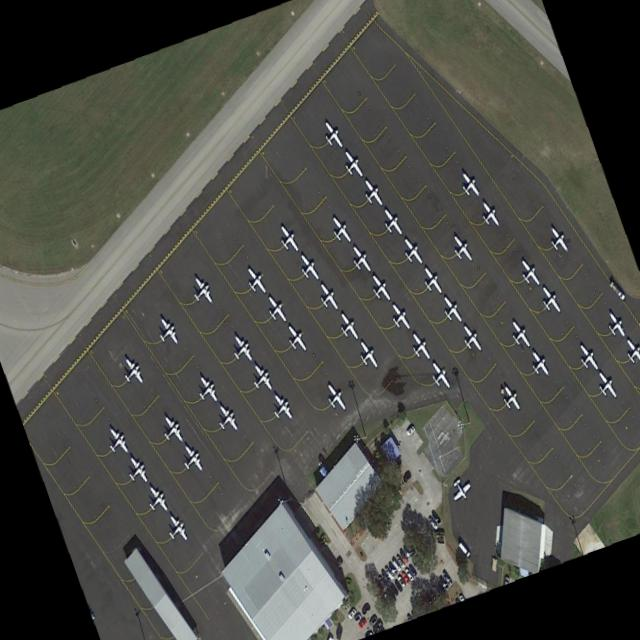large-vehicle: (607, 279, 623, 301)
plane: (161, 510, 191, 550), (177, 440, 206, 480), (246, 359, 275, 399), (504, 315, 533, 354), (157, 411, 186, 450), (266, 389, 295, 428), (211, 401, 240, 439), (102, 423, 131, 461), (152, 313, 181, 351), (320, 379, 349, 417), (122, 451, 150, 490), (353, 336, 381, 374), (357, 174, 385, 212), (447, 230, 475, 268), (142, 481, 170, 519), (117, 353, 145, 391), (187, 272, 215, 310), (227, 331, 255, 369), (262, 290, 290, 328), (536, 281, 564, 319), (475, 196, 503, 234), (397, 233, 425, 270), (417, 262, 445, 299), (294, 248, 322, 285), (192, 372, 220, 409), (281, 320, 309, 357), (425, 357, 452, 395), (274, 219, 301, 257), (573, 338, 600, 376), (592, 366, 619, 404), (515, 254, 542, 292), (365, 270, 393, 306), (333, 309, 361, 345), (326, 212, 353, 249), (346, 241, 373, 278), (405, 328, 432, 365), (318, 117, 345, 154), (338, 146, 365, 183), (313, 279, 340, 316), (241, 262, 268, 299), (385, 299, 412, 335), (378, 205, 405, 241), (437, 292, 464, 328), (457, 321, 484, 357), (446, 472, 473, 507), (456, 167, 482, 203), (497, 380, 523, 415), (525, 346, 551, 381), (602, 307, 628, 342), (545, 222, 570, 256), (620, 334, 640, 370)
small-vehicle: (456, 541, 470, 558), (383, 586, 395, 603), (437, 575, 448, 592), (430, 509, 441, 526), (402, 566, 413, 582), (441, 571, 452, 587), (426, 515, 437, 531), (392, 577, 403, 592), (345, 605, 356, 620), (359, 600, 370, 614), (400, 468, 411, 482), (376, 574, 386, 589), (395, 574, 405, 589), (388, 581, 398, 596), (380, 569, 390, 584), (383, 566, 393, 581), (409, 557, 419, 572), (394, 554, 404, 569), (333, 554, 342, 570), (398, 570, 408, 584), (431, 585, 441, 599), (390, 558, 400, 572), (406, 562, 416, 576), (427, 587, 436, 602), (367, 613, 377, 626), (404, 424, 414, 436), (387, 562, 396, 575), (352, 612, 361, 624), (357, 617, 366, 629), (335, 625, 341, 639), (325, 632, 333, 640)
